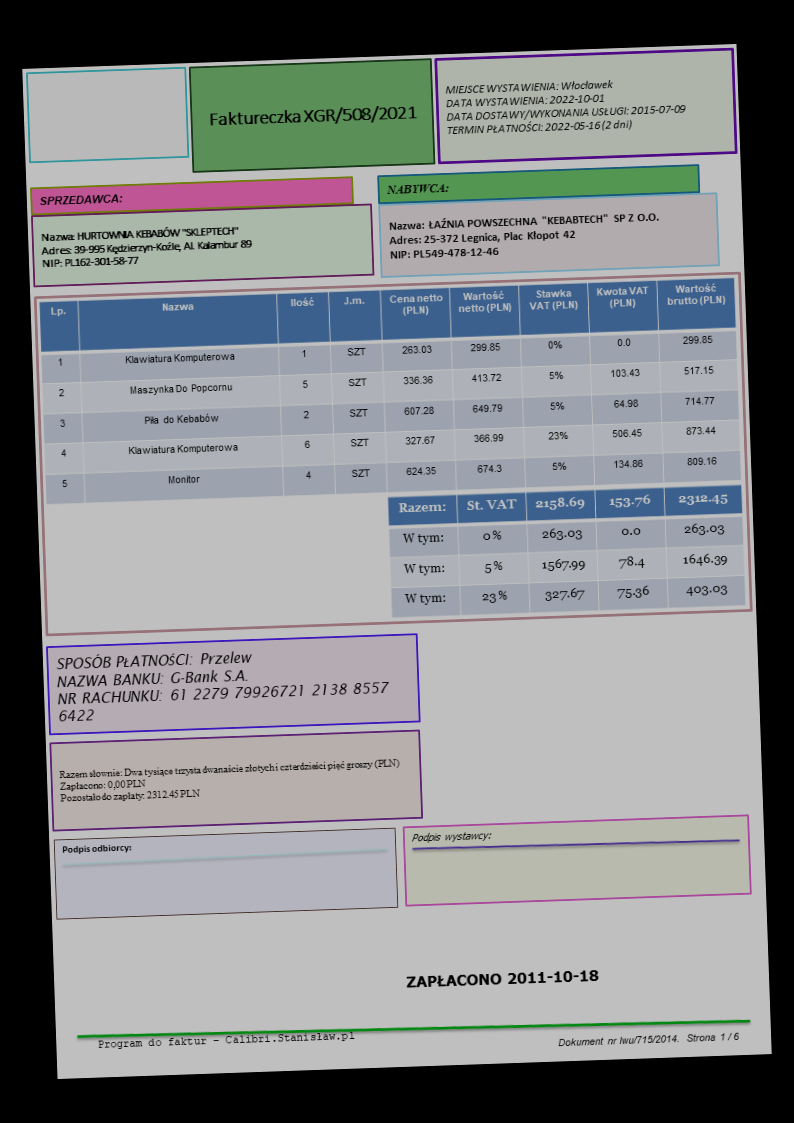Table: (37, 276, 741, 505), (385, 482, 744, 620)
TextBox: (53, 640, 395, 730), (54, 754, 406, 810), (440, 73, 690, 142), (385, 206, 666, 266), (35, 221, 258, 273), (203, 99, 418, 133), (94, 1026, 358, 1053), (399, 962, 604, 994), (553, 1025, 743, 1052), (407, 824, 493, 851), (34, 189, 124, 211), (56, 839, 134, 860), (382, 177, 449, 198)
